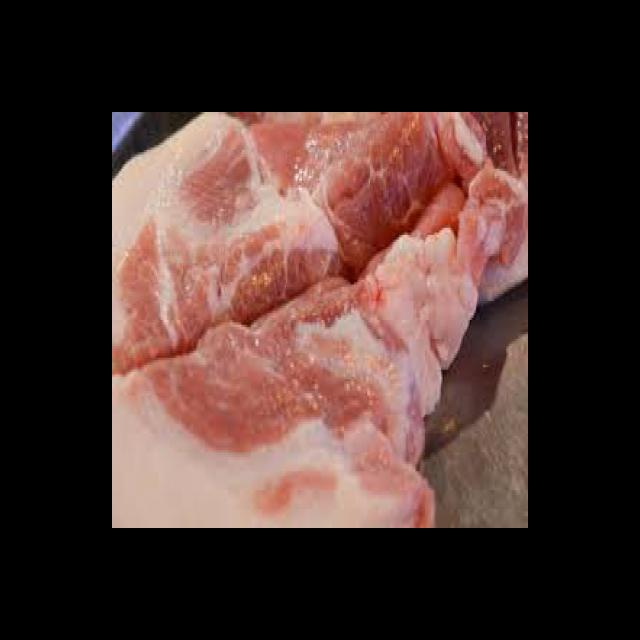pork: (117, 154, 410, 516)
